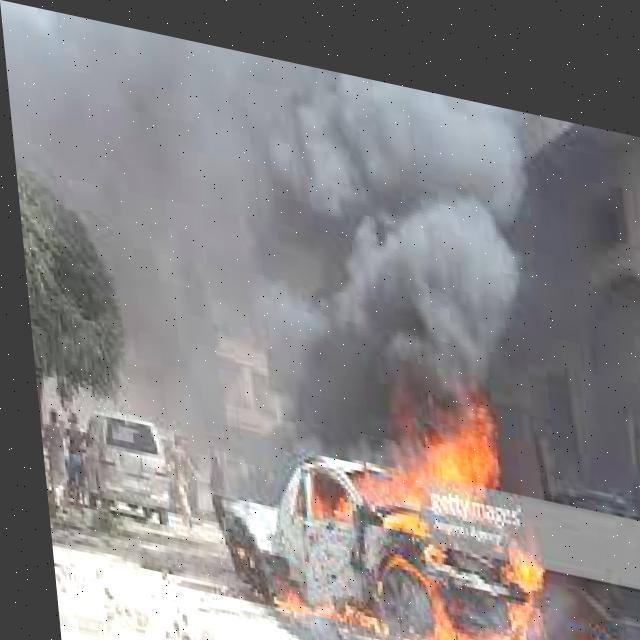Fire: (274, 350, 544, 639)
